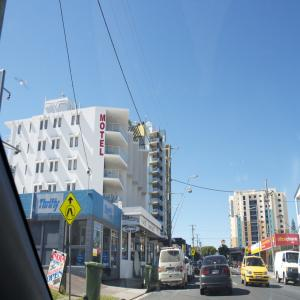Vehicle-registration-plate: (214, 271, 220, 274), (169, 269, 173, 272), (257, 277, 262, 279)
